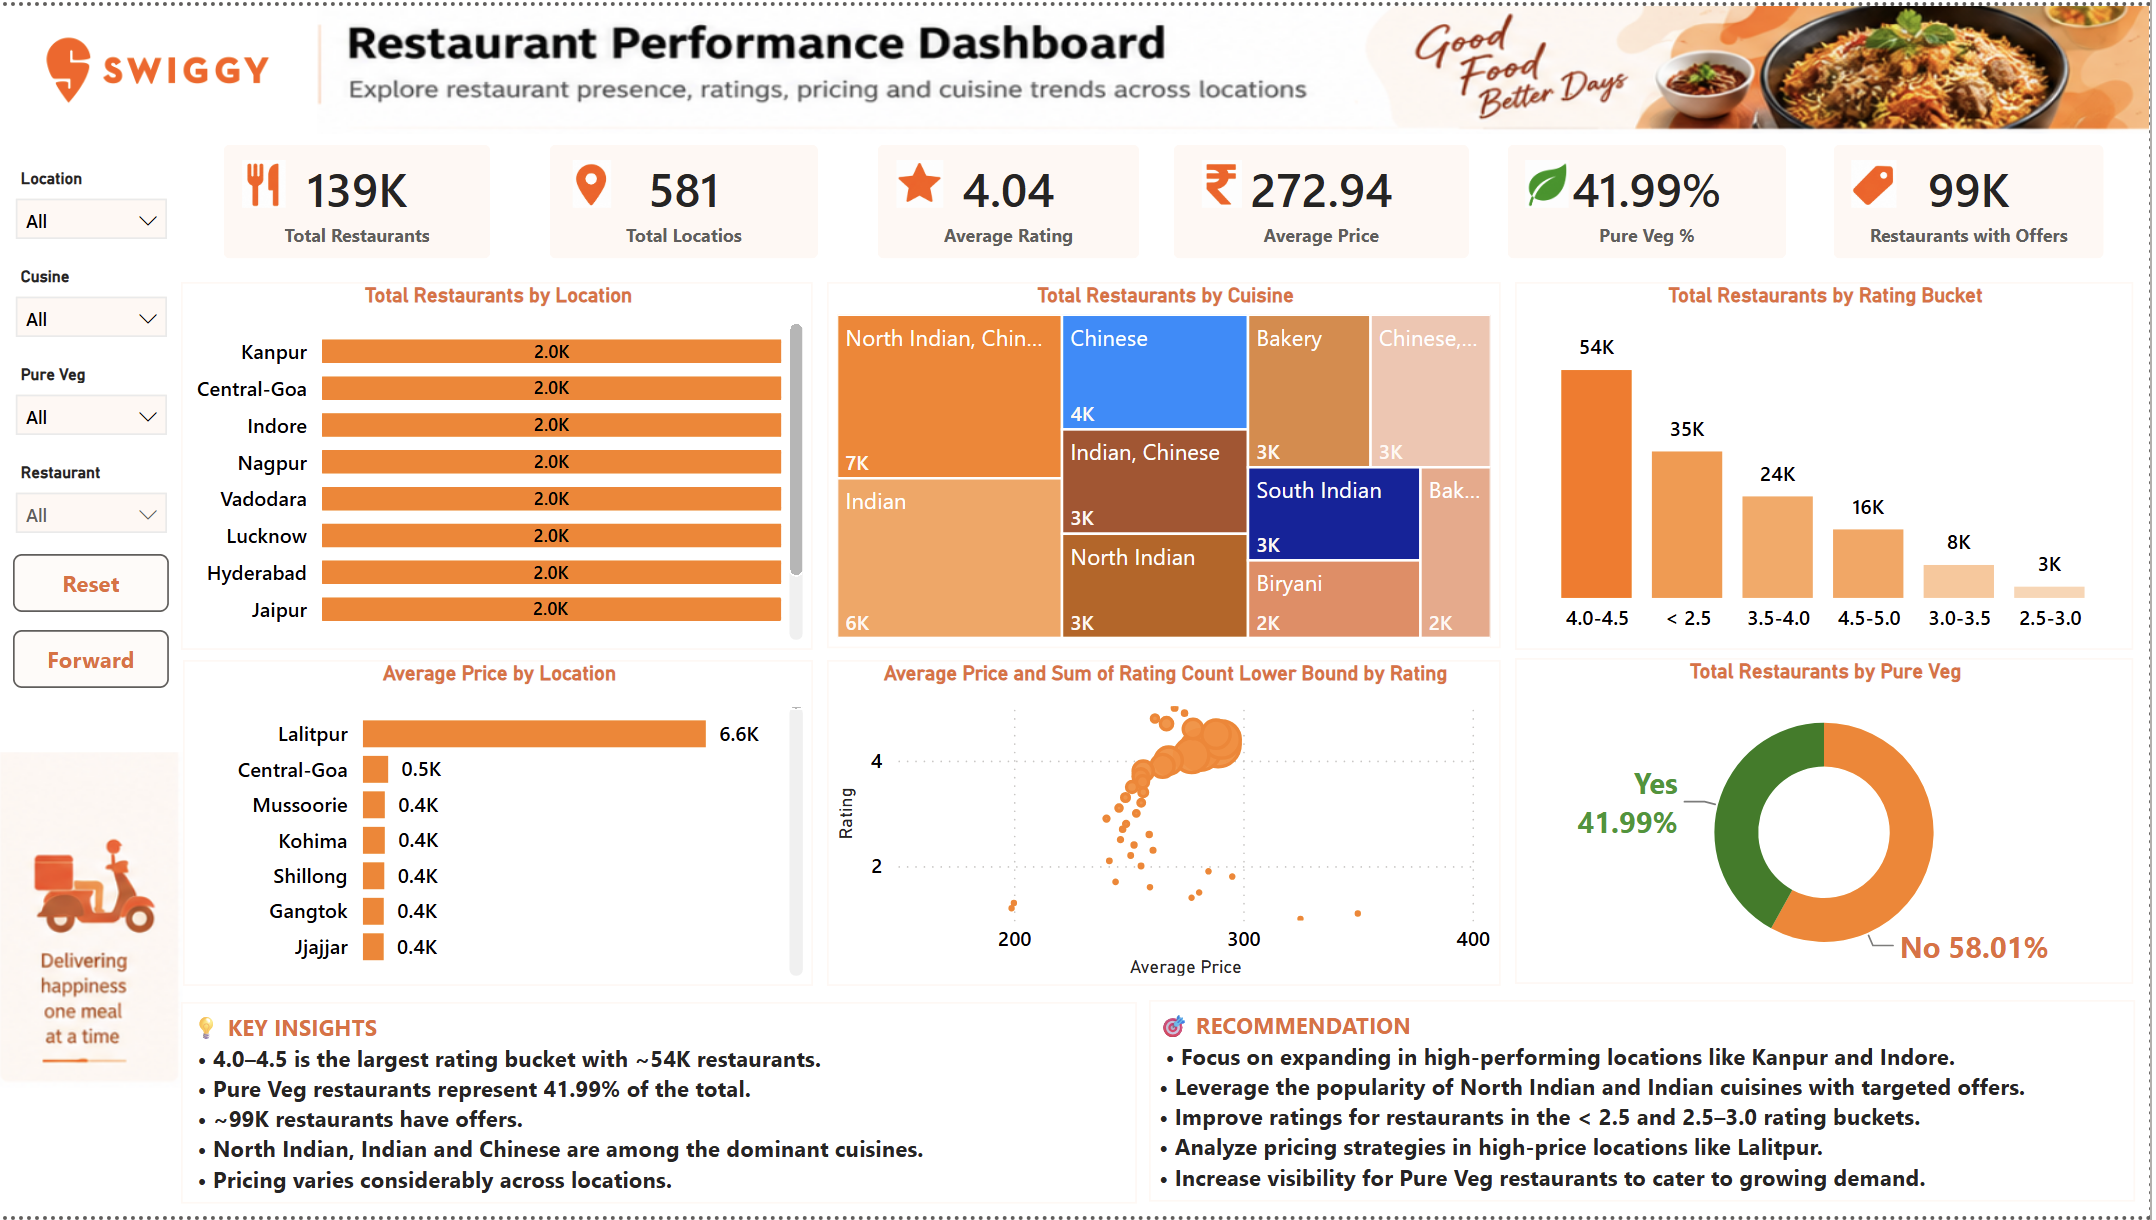

The page's visual inventory and layout, read from the dashboard file:
{"tool":"powerbi","page":{"name":"Restaurant Overview","canvas":[1280,720],"ordinal":0},"visuals":[{"type":"slicer","fields":{"Values":["swiggy_file.Location"]},"box":[0,91.6,110,58.3],"z":0},{"type":"slicer","fields":{"Values":["Swiggy.Cusine_Copy"]},"box":[0,149.9,110,58],"z":1000},{"type":"slicer","fields":{"Values":["Swiggy.Pure Veg"]},"box":[0,208.2,110,58],"z":2000},{"type":"slicer","fields":{"Values":["swiggy_file.Restaurant Name"]},"box":[0,266.5,110,58],"z":3000},{"type":"actionButton","title":"Reset","box":[8.3,325.9,92.8,34.5],"z":4000},{"type":"actionButton","title":"Reset","box":[8.3,371.2,92.8,34.5],"z":5000},{"type":"image","box":[0,0,140,82.5],"z":6000},{"type":"cardVisual","fields":{"Data":["Measures (2).Total Resturants"]},"box":[111.2,101.2,180,78.8],"z":7000},{"type":"cardVisual","fields":{"Data":["Measures (2).Total Locatios"]},"box":[312.5,101.2,175,77.5],"z":7001},{"type":"cardVisual","fields":{"Data":["Measures (2).Average Rating"]},"box":[507.5,101.2,175,77.5],"z":7002},{"type":"cardVisual","fields":{"Data":["Measures (2).Average Price"]},"box":[701.2,101.2,181.2,77.5],"z":7003},{"type":"cardVisual","fields":{"Data":["Measures (2).Pure Veg %"]},"box":[901.2,101.2,181.2,77.5],"z":7004},{"type":"cardVisual","fields":{"Data":["Measures (2).Restaurants with Offers"]},"box":[1091.2,101.2,180,77.5],"z":7005},{"type":"barChart","fields":{"Category":["swiggy_file.Location"],"Y":["Measures (2).Total Resturants"]},"box":[122.5,181.2,373.8,191.2],"z":7006},{"type":"treemap","fields":{"Group":["swiggy_file.Cuisine"],"Values":["Measures (2).Total Resturants"]},"box":[507.5,180,393.8,192.5],"z":7007},{"type":"columnChart","fields":{"Category":["swiggy_file.Rating Bucket"],"Y":["Measures (2).Total Restaurants"]},"box":[911.2,180,360,191.2],"z":7008},{"type":"barChart","fields":{"Category":["Swiggy.Location"],"Y":["Measures (2).Average Price"]},"box":[122.5,380,375,201.2],"z":7009},{"type":"scatterChart","fields":{"Size":["Sum(Swiggy.Rating Count Lower Bound)"],"X":["Measures (2).Average Price"],"Y":["Swiggy.Rating"]},"box":[507.5,380,393.8,201.2],"z":7010},{"type":"donutChart","fields":{"Category":["Swiggy.Pure Veg"],"Y":["Measures (2).Total Resturants"]},"box":[911.2,380,360,201.2],"z":7011},{"type":"image","box":[0,437.8,109.4,241.5],"z":7012},{"type":"image","box":[148.8,0,1131.2,91.2],"z":7013},{"type":"image","box":[122.5,110,35,31.2],"z":7014},{"type":"image","box":[323.8,108.8,35,31.2],"z":7015},{"type":"image","box":[517.5,108.8,35,31.2],"z":7016},{"type":"image","box":[711.2,110,35,31.2],"z":7017},{"type":"image","box":[911.2,110,35,31.2],"z":7018},{"type":"image","box":[1103.8,110,35,31.2],"z":7019},{"type":"textbox","box":[122.5,591.2,551.2,118.8],"z":7020},{"type":"textbox","box":[682.5,592.5,590,118.8],"z":7021}]}

Visuals, with their boxes in screenshot pixels (x1, y1, x2, y2), scaled from the page's 1280x720 canvas onto the 2156x1220 screenshot:
slicer - swiggy_file.Location: <region>0, 155, 185, 254</region>
slicer - Swiggy.Cusine_Copy: <region>0, 254, 185, 352</region>
slicer - Swiggy.Pure Veg: <region>0, 353, 185, 451</region>
slicer - swiggy_file.Restaurant Name: <region>0, 452, 185, 550</region>
"Reset" actionButton: <region>14, 552, 170, 611</region>
"Reset" actionButton: <region>14, 629, 170, 687</region>
image: <region>0, 0, 236, 140</region>
cardVisual - Measures (2).Total Resturants: <region>187, 171, 490, 305</region>
cardVisual - Measures (2).Total Locatios: <region>526, 171, 821, 303</region>
cardVisual - Measures (2).Average Rating: <region>855, 171, 1150, 303</region>
cardVisual - Measures (2).Average Price: <region>1181, 171, 1486, 303</region>
cardVisual - Measures (2).Pure Veg %: <region>1518, 171, 1823, 303</region>
cardVisual - Measures (2).Restaurants with Offers: <region>1838, 171, 2141, 303</region>
barChart - swiggy_file.Location x Measures (2).Total Resturants: <region>206, 307, 836, 631</region>
treemap - swiggy_file.Cuisine x Measures (2).Total Resturants: <region>855, 305, 1518, 631</region>
columnChart - swiggy_file.Rating Bucket x Measures (2).Total Restaurants: <region>1535, 305, 2141, 629</region>
barChart - Swiggy.Location x Measures (2).Average Price: <region>206, 644, 838, 985</region>
scatterChart - Sum(Swiggy.Rating Count Lower Bound) x Measures (2).Average Price: <region>855, 644, 1518, 985</region>
donutChart - Swiggy.Pure Veg x Measures (2).Total Resturants: <region>1535, 644, 2141, 985</region>
image: <region>0, 742, 184, 1151</region>
image: <region>251, 0, 2155, 155</region>
image: <region>206, 186, 265, 239</region>
image: <region>545, 184, 604, 237</region>
image: <region>872, 184, 931, 237</region>
image: <region>1198, 186, 1257, 239</region>
image: <region>1535, 186, 1594, 239</region>
image: <region>1859, 186, 1918, 239</region>
textbox: <region>206, 1002, 1135, 1203</region>
textbox: <region>1150, 1004, 2143, 1205</region>
